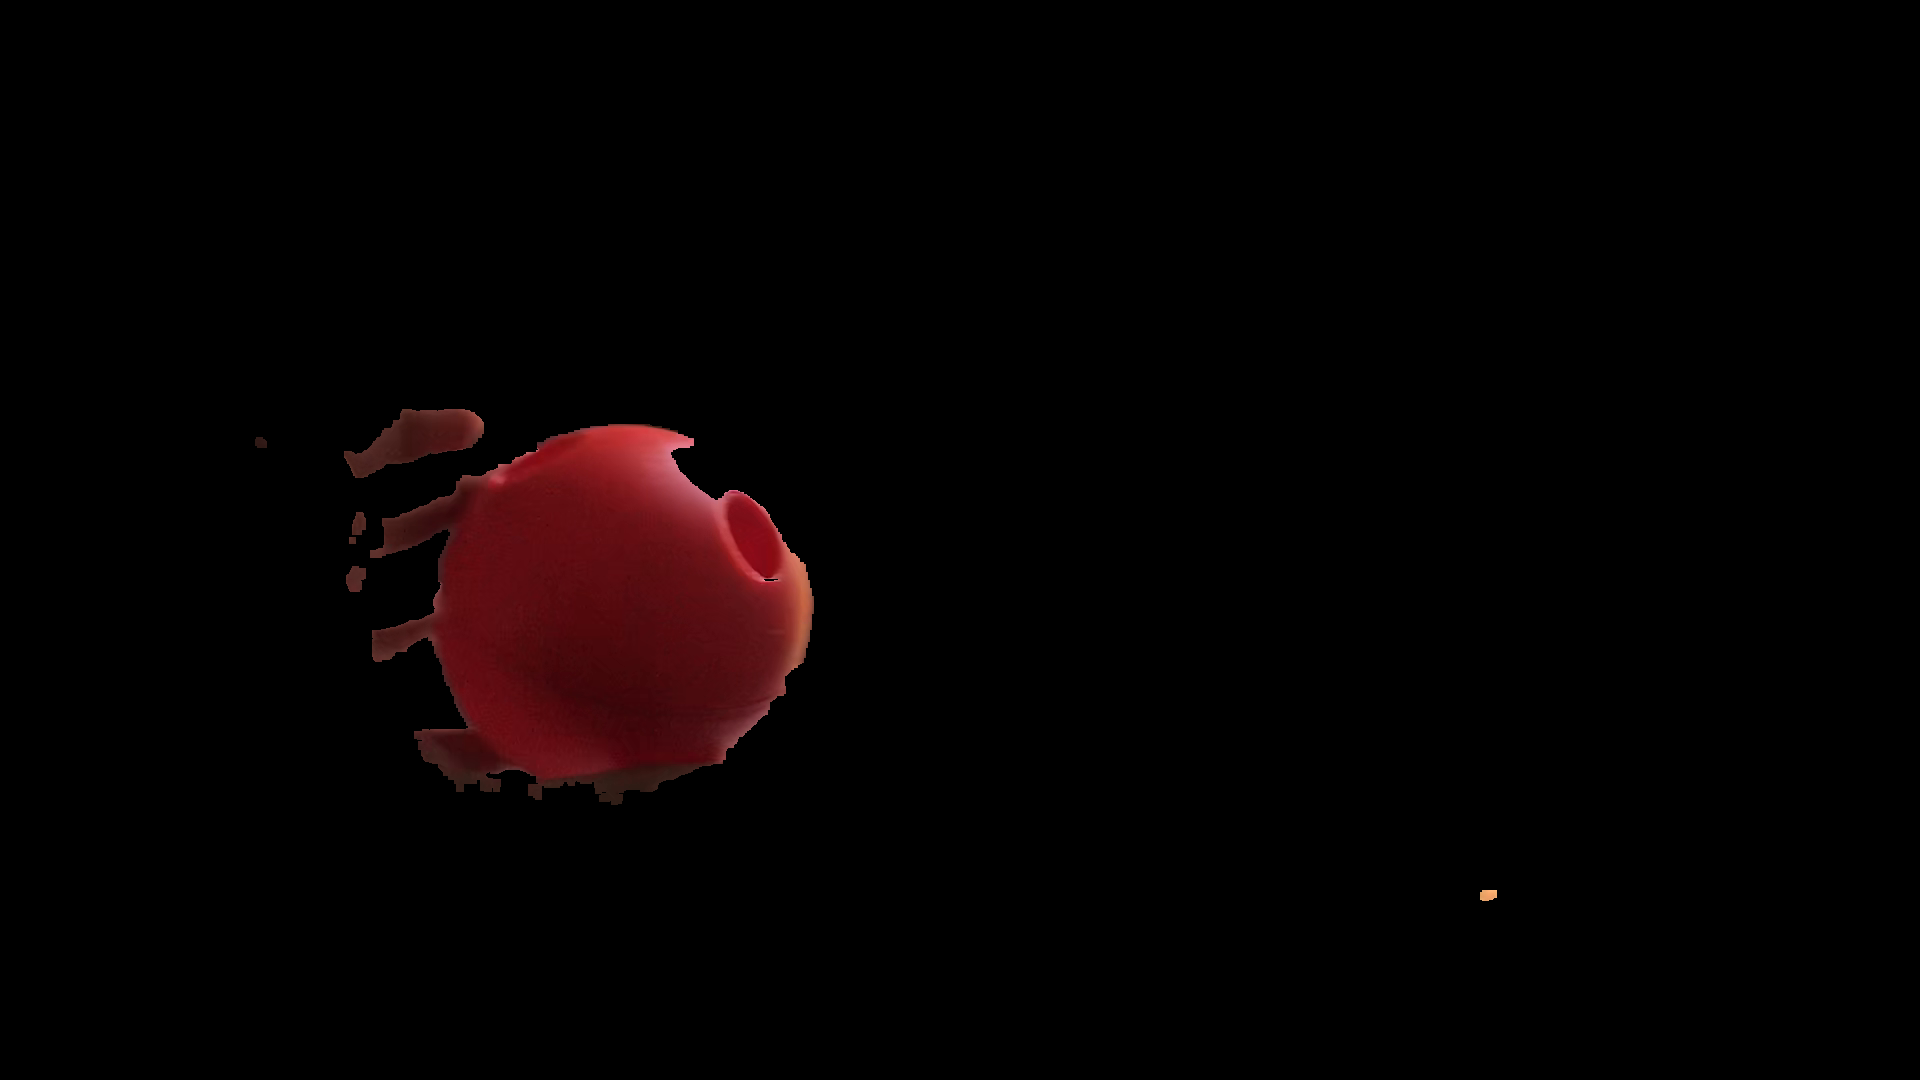Ball: (435, 426, 820, 785)
